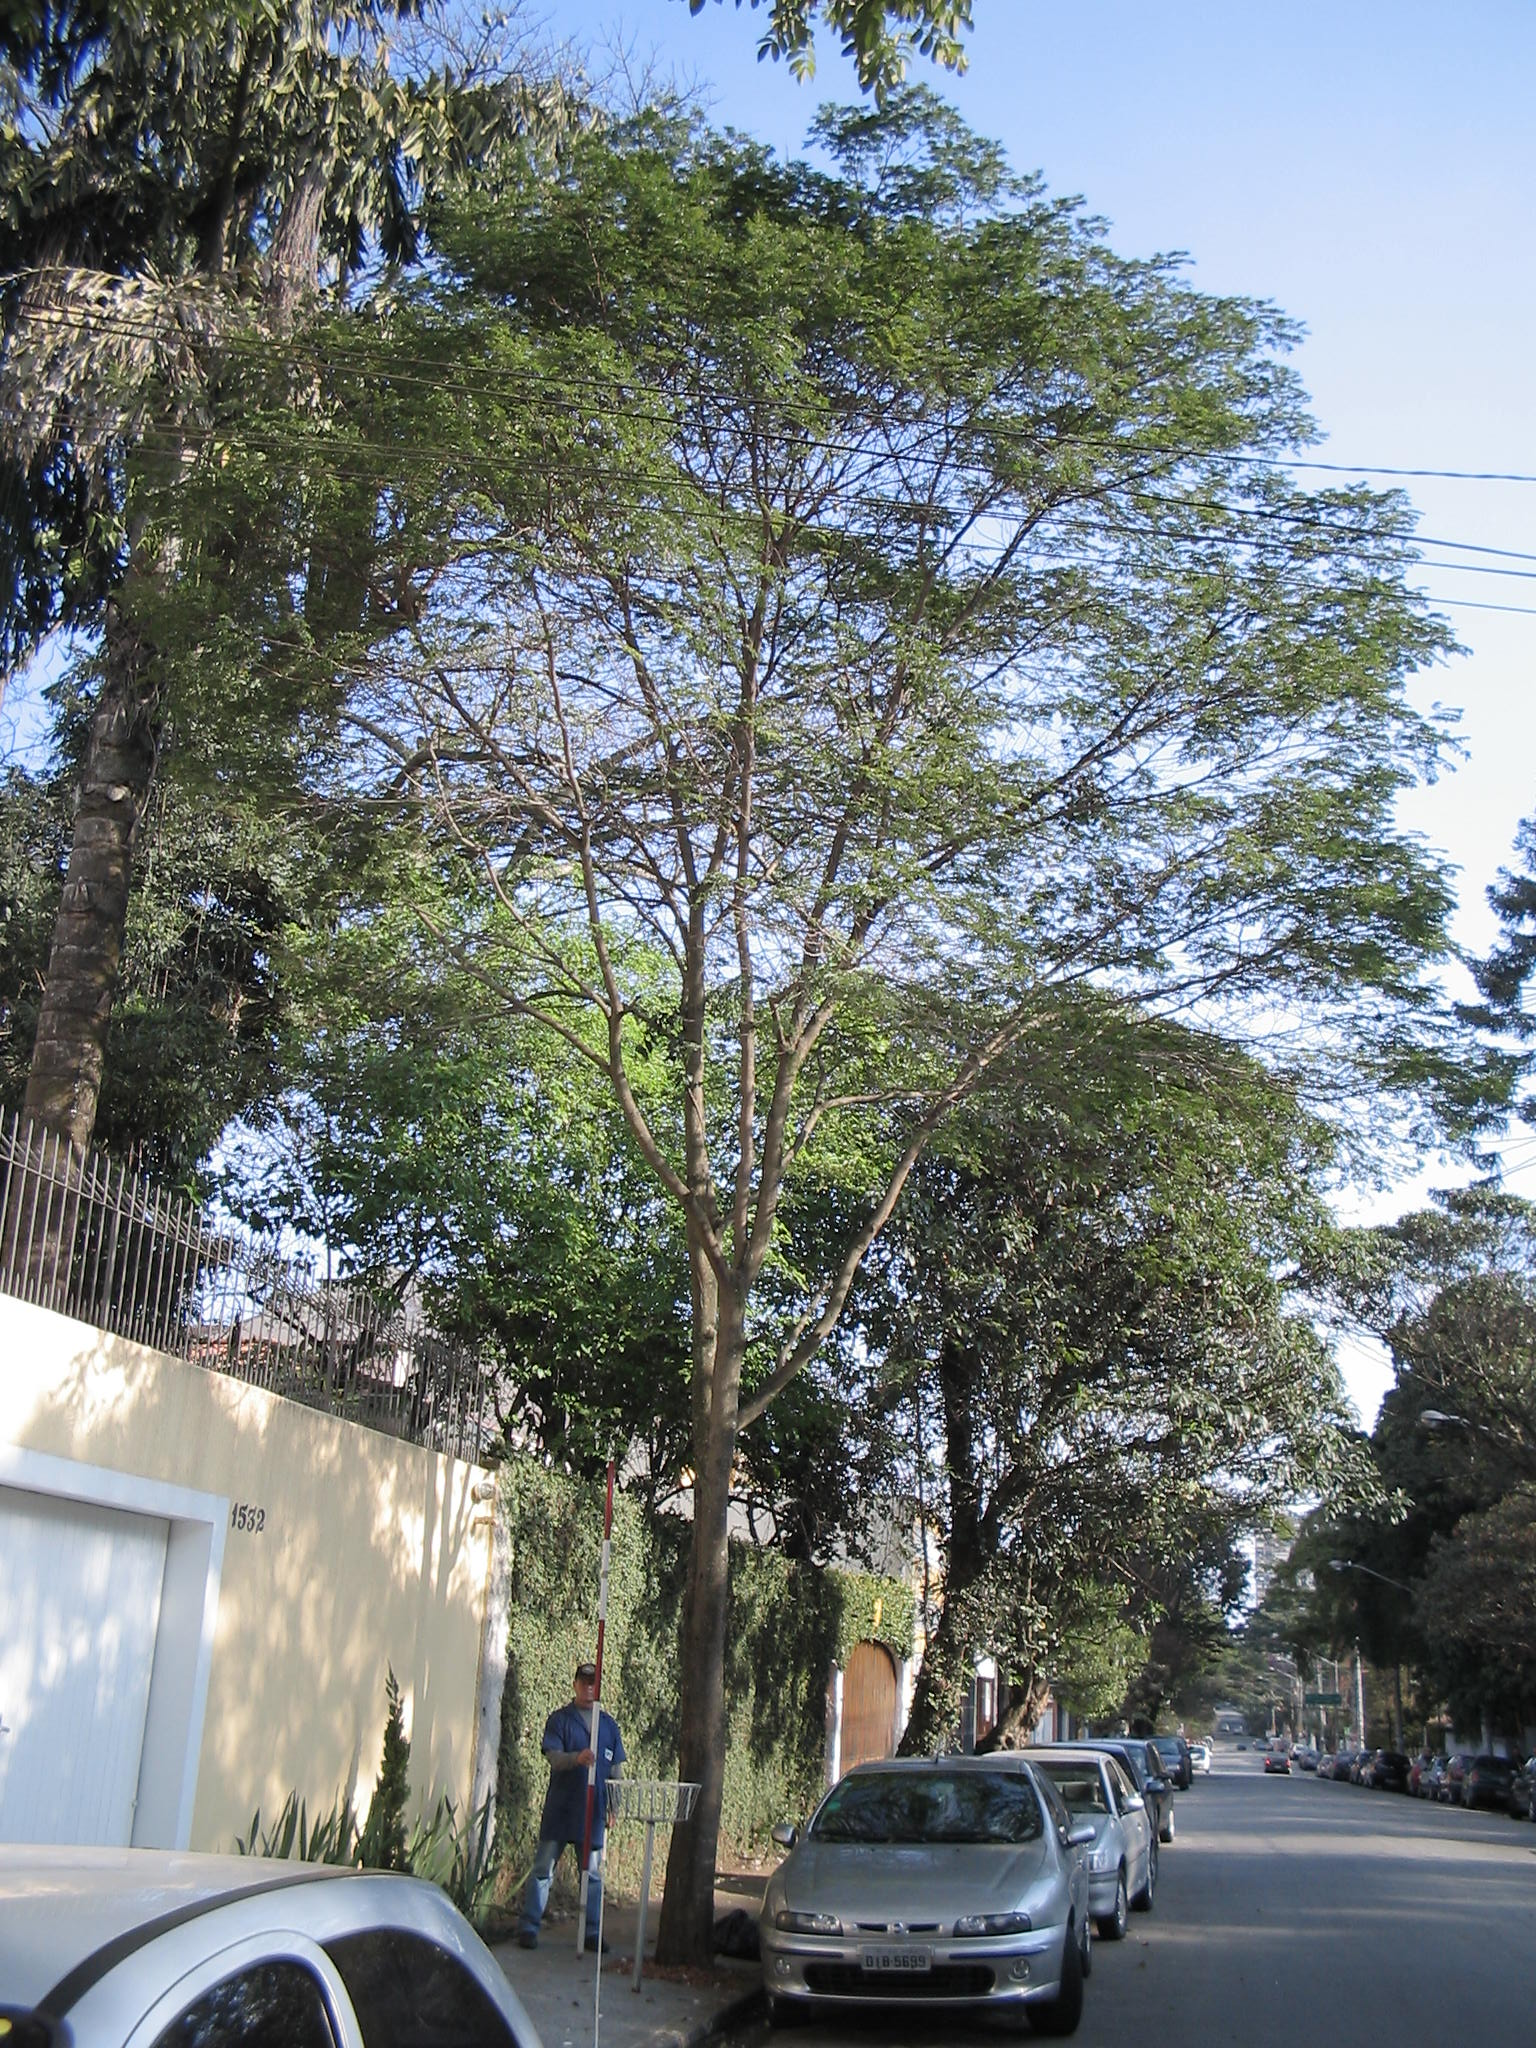crown: (106, 97, 1459, 1164)
stem: (641, 1430, 745, 1961)
stick: (561, 1459, 628, 1959)
tree: (98, 94, 1467, 1967)
